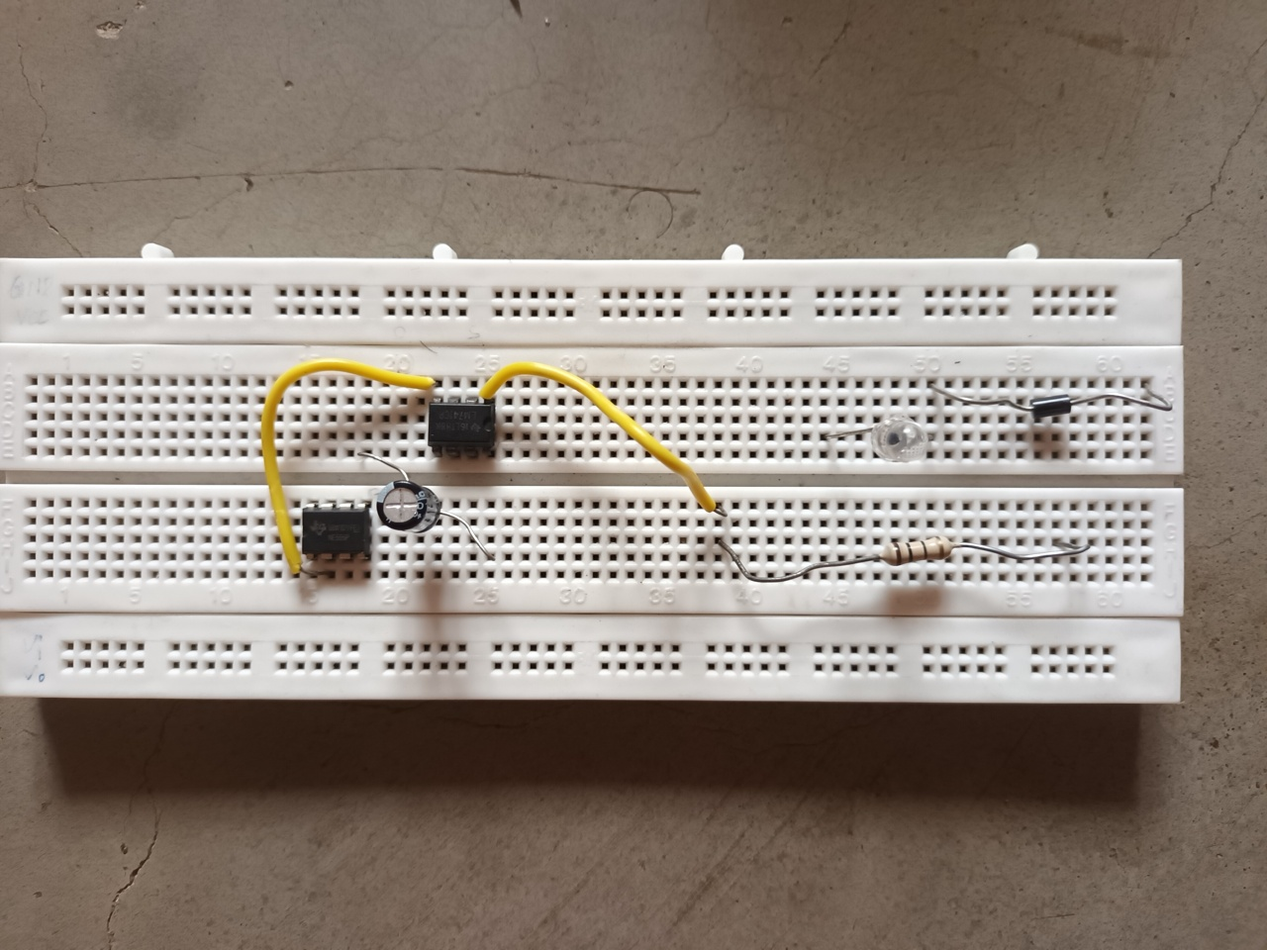capacitor: (377, 478, 441, 535)
resistor: (879, 535, 953, 567)
